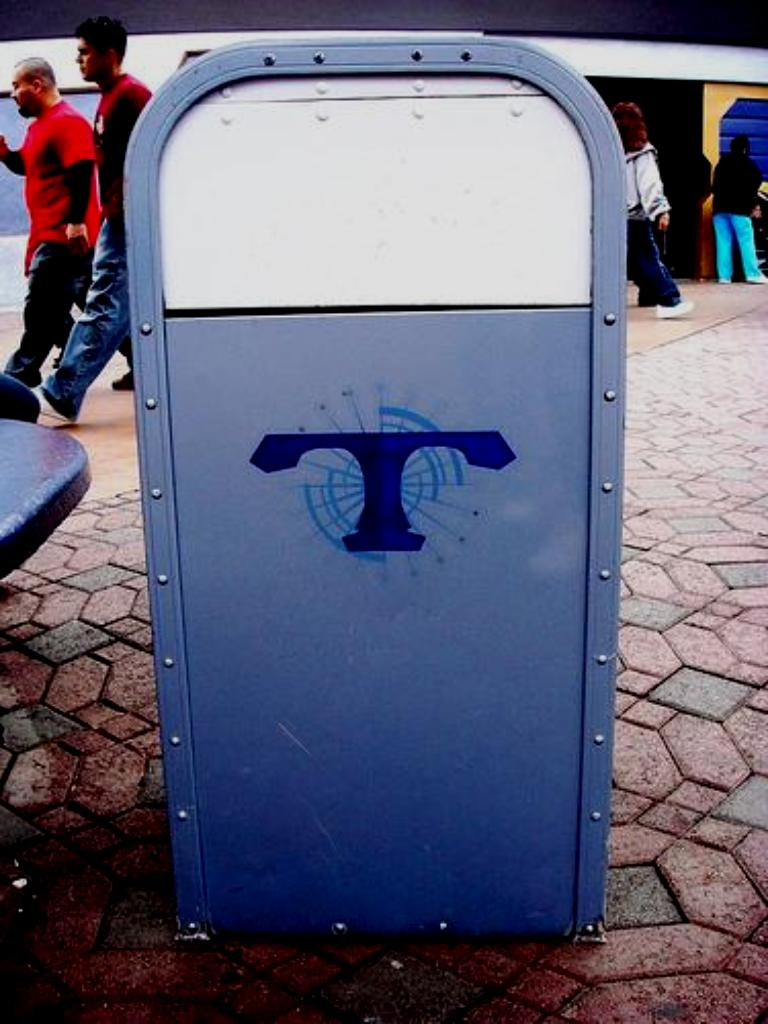dustbin: (123, 23, 633, 963)
